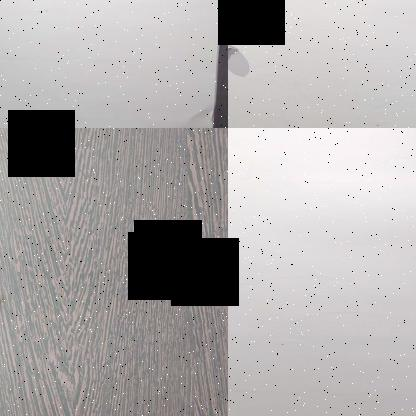NUTS: (228, 0, 276, 29), (228, 39, 240, 61)
